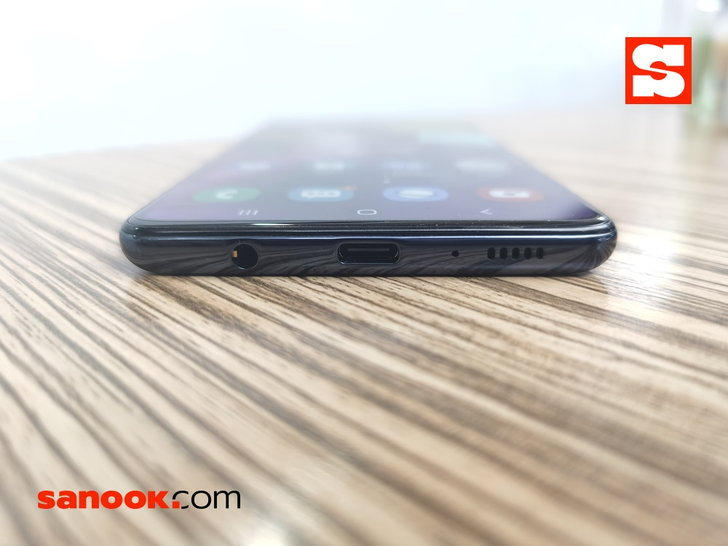phone: (113, 111, 624, 282)
